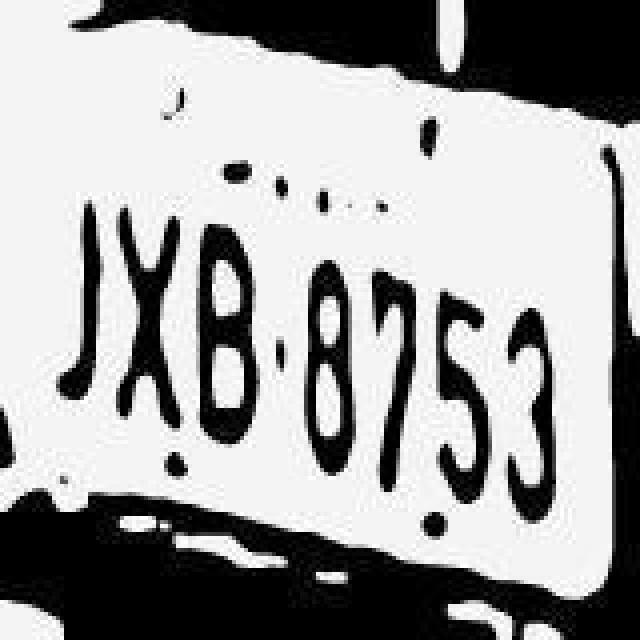3: (500, 296, 572, 536)
5: (430, 278, 498, 522)
7: (362, 258, 422, 518)
8: (298, 256, 366, 512)
B: (186, 202, 262, 462)
J: (36, 194, 108, 438)
X: (108, 190, 188, 450)
